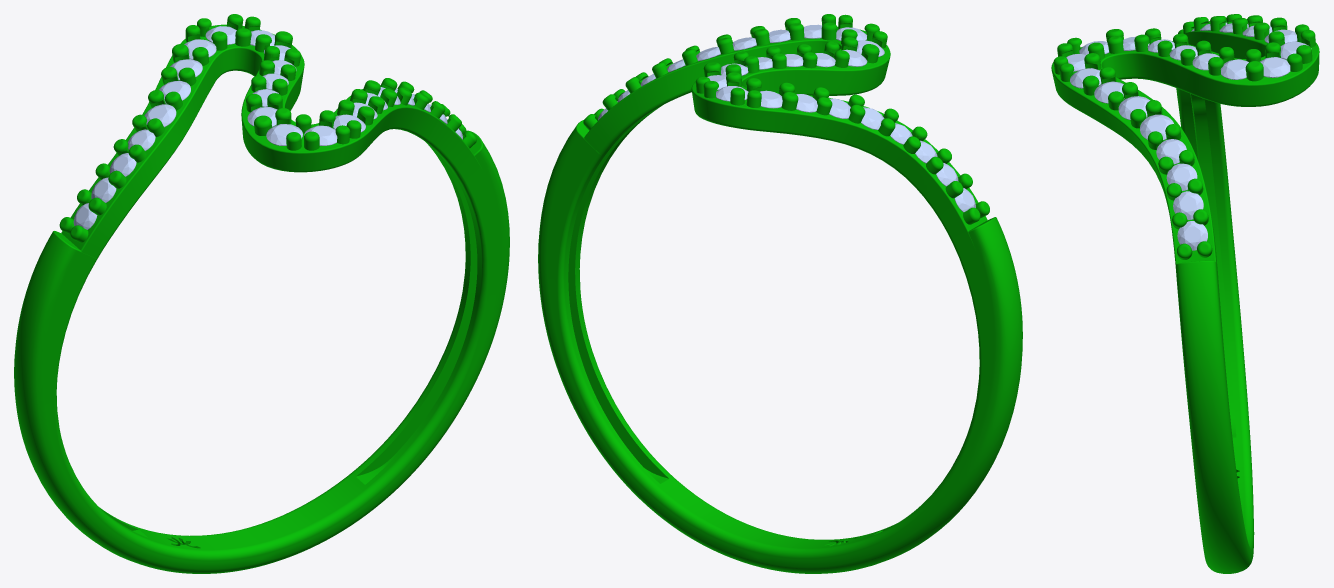
3 renders of one model, left to right at view 1: azimuth 30°, elevation 25°; view 2: azimuth 150°, elevation 25°; view 3: azimuth 270°, elevation 25°, orthographic. The views are drawn at different scales.
Visible parts, largest first — view 1: 3.3dm; view 2: 3.3dm; view 3: 3.3dm.
Boxes of the visible parts, box(x1,y1,x2,y2) form: 3.3dm: box(14, 14, 509, 573); 3.3dm: box(538, 14, 1022, 573); 3.3dm: box(1051, 14, 1319, 573).
Bounding box in the file's own units: 2.66 × 2.7 × 1.28.
